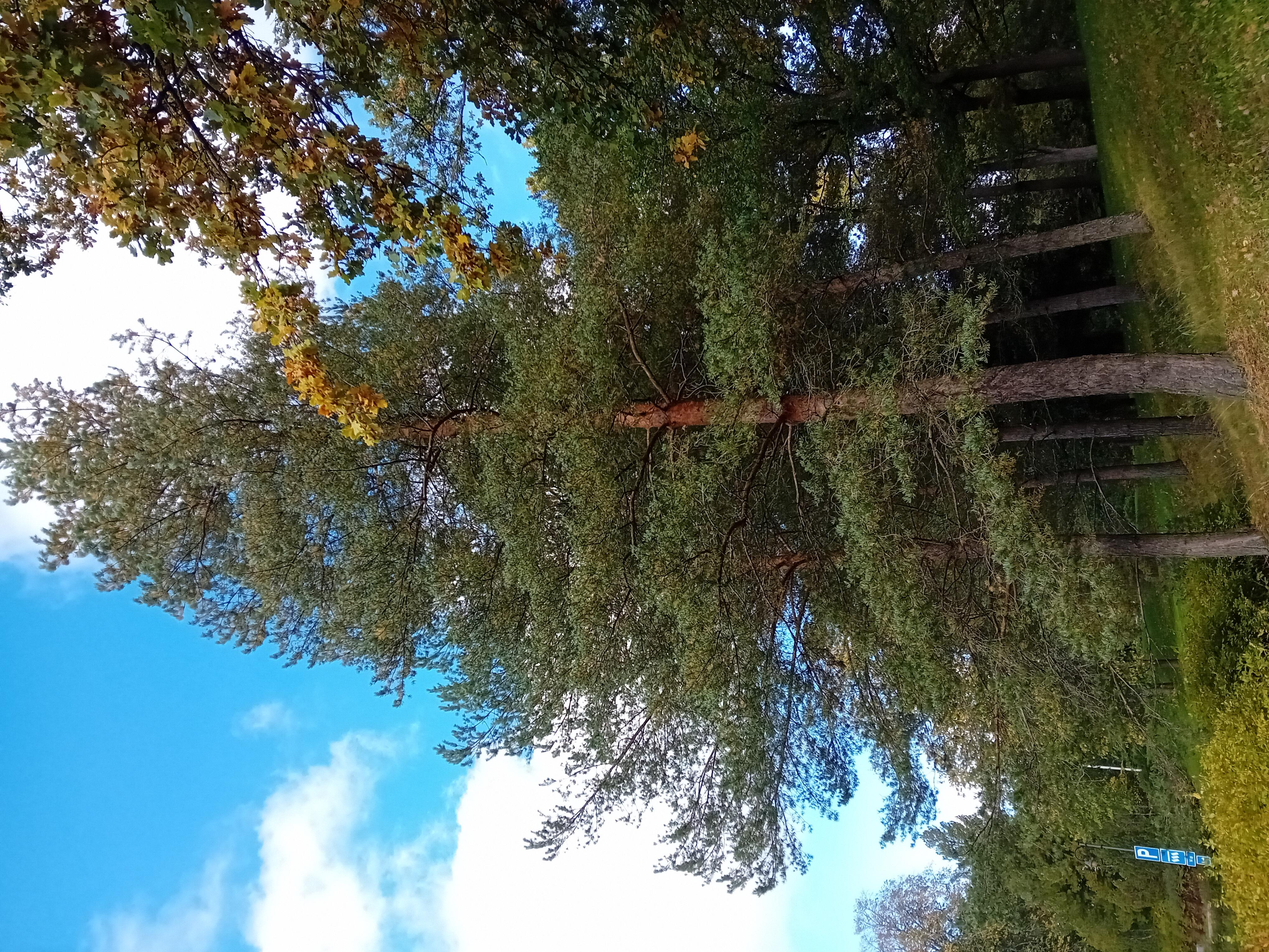Pine: (281, 1, 988, 943)
